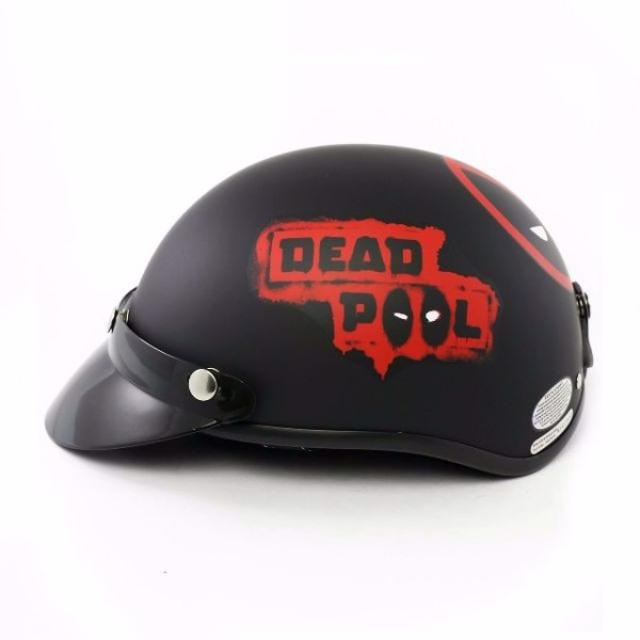Helmet: (49, 130, 600, 494)
